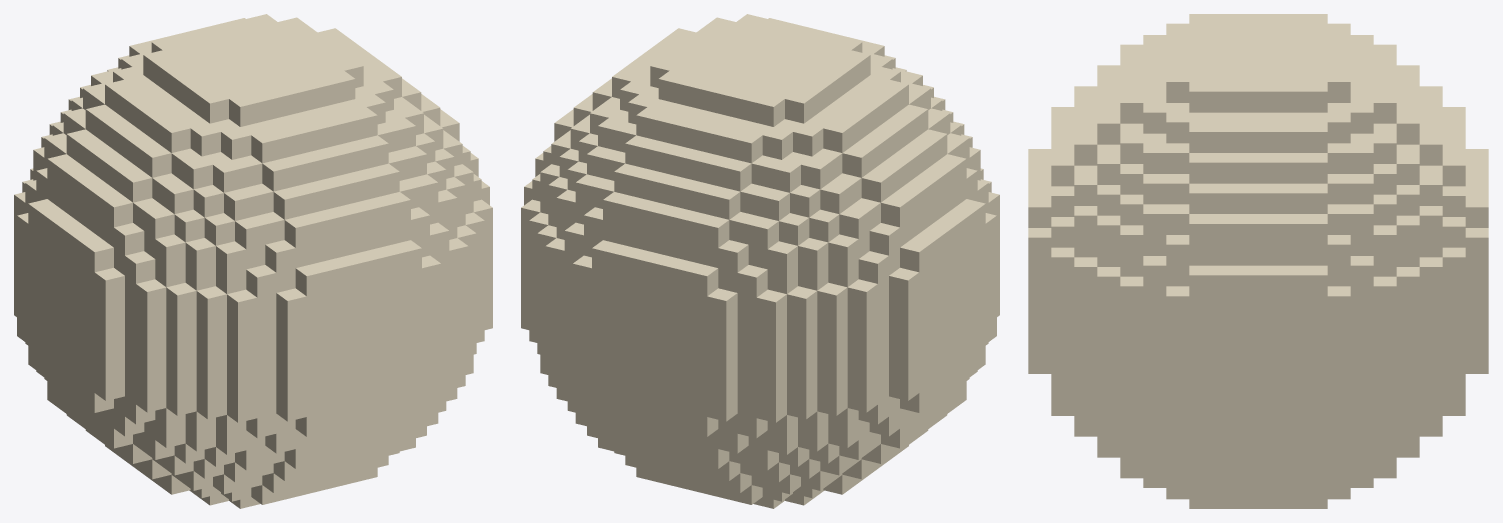
Rendered from pearl.fbx.
The picture shows the model from 3 angles, left to right: view 1: azimuth 30°, elevation 25°; view 2: azimuth 150°, elevation 25°; view 3: azimuth 270°, elevation 25°; orthographic projection. The views are drawn at different scales.
Visible parts, largest first — view 1: pearl; view 2: pearl; view 3: pearl.
Part boxes in pixels (box(x1,y1,x2,y2)): pearl: box(14, 14, 492, 508); pearl: box(521, 14, 999, 508); pearl: box(1028, 14, 1488, 508).
Bounding box in the file's own units: 20 × 20 × 20.
1 material, 1 textured.
